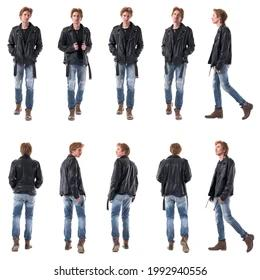jacket: (156, 154, 193, 198), (107, 22, 144, 65), (57, 24, 93, 66), (107, 155, 139, 202), (7, 23, 44, 63), (7, 156, 44, 196), (160, 23, 195, 64), (207, 156, 236, 201), (207, 24, 234, 68), (58, 154, 84, 198)
trousers: (213, 195, 245, 244), (211, 63, 245, 109), (62, 193, 87, 243), (165, 193, 189, 244), (11, 192, 36, 240), (13, 61, 36, 108), (163, 63, 187, 108), (110, 194, 133, 240), (65, 62, 87, 108), (115, 62, 136, 108)
